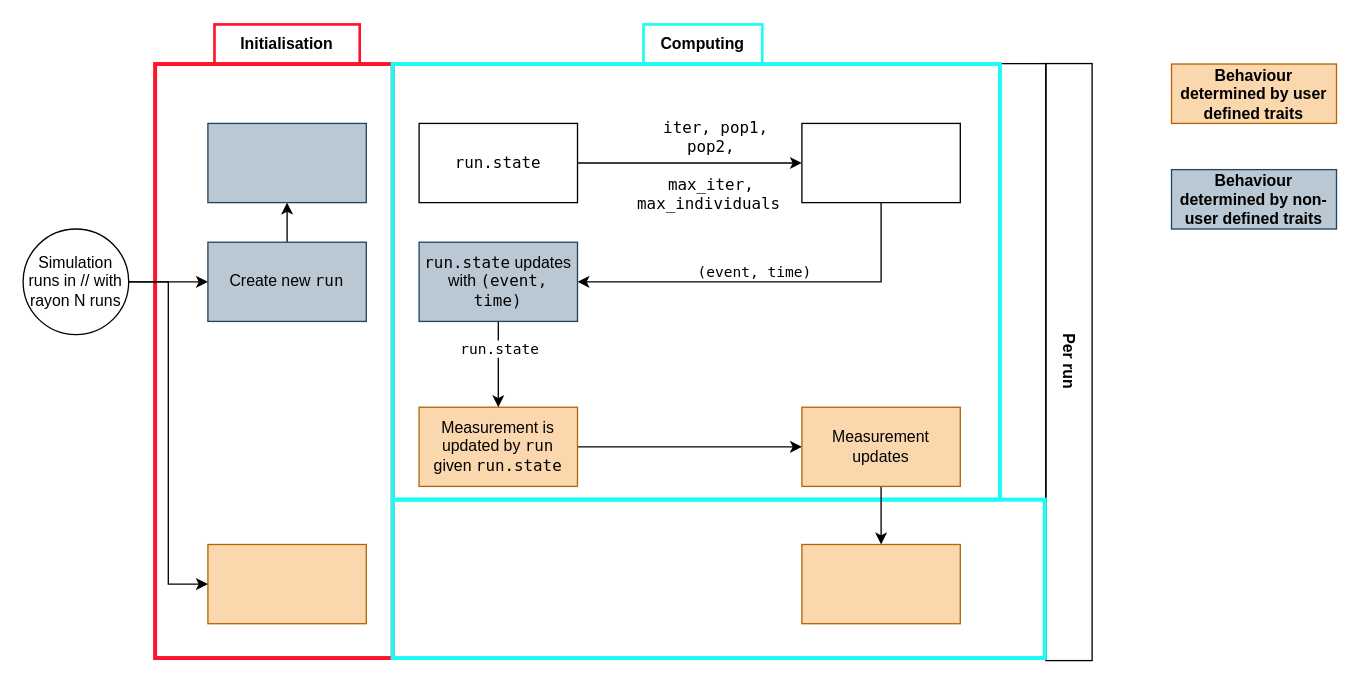
Image size: 1360x684. Some labels were removed from this diagram. Each missing label, with the centre of its shape:
Create new measurement (derive_build): point 286,583
Create new run.state (derive_build?): point 286,162
Gillespie computes next event: point 880,162
Per iteration: point 1022,281
Save measurements: point 880,583
